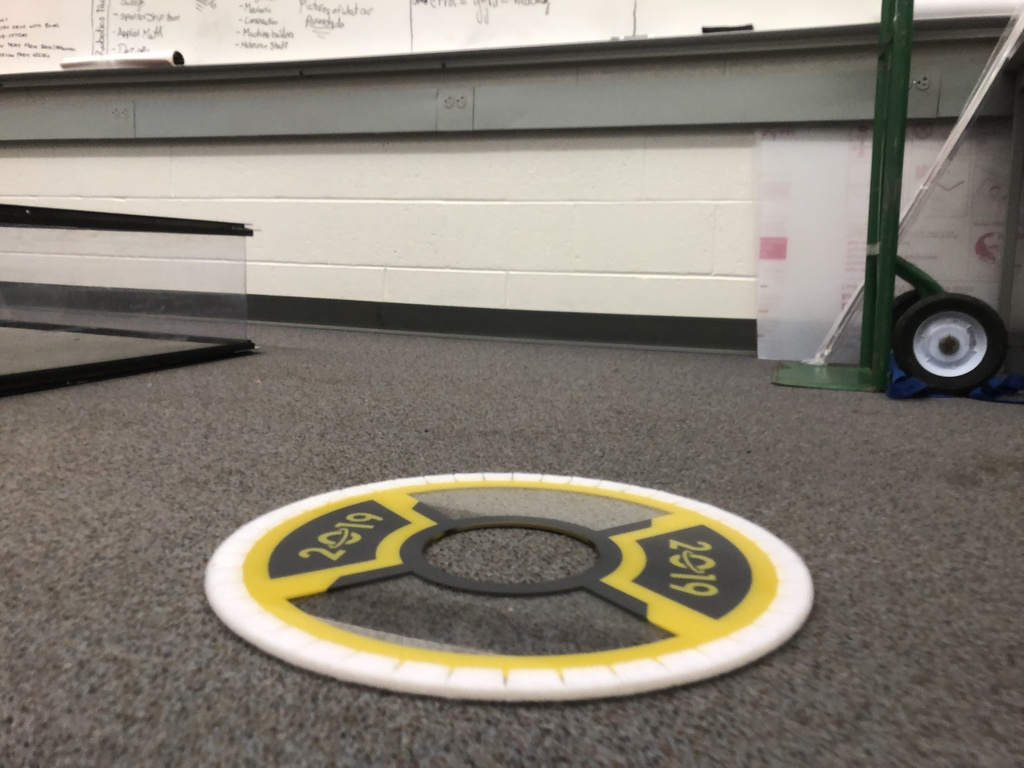hatch_panel: (191, 460, 852, 711)
